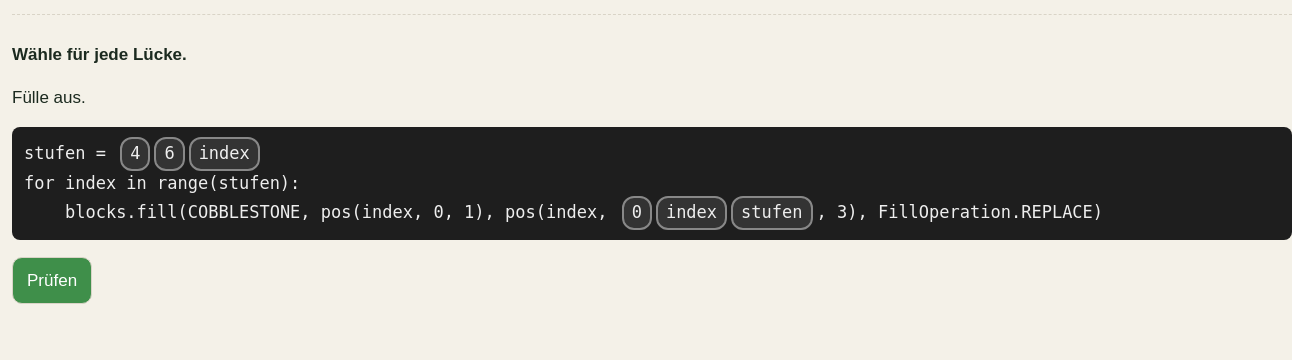
Scenario: Pruefen ohne Auswahl → fillWrong; richtige Chips → fillRight; ein falscher Chip → fillWrong
Step 1. Click the button with test id "fill-check" → (52, 280), box [12,256,92,304]
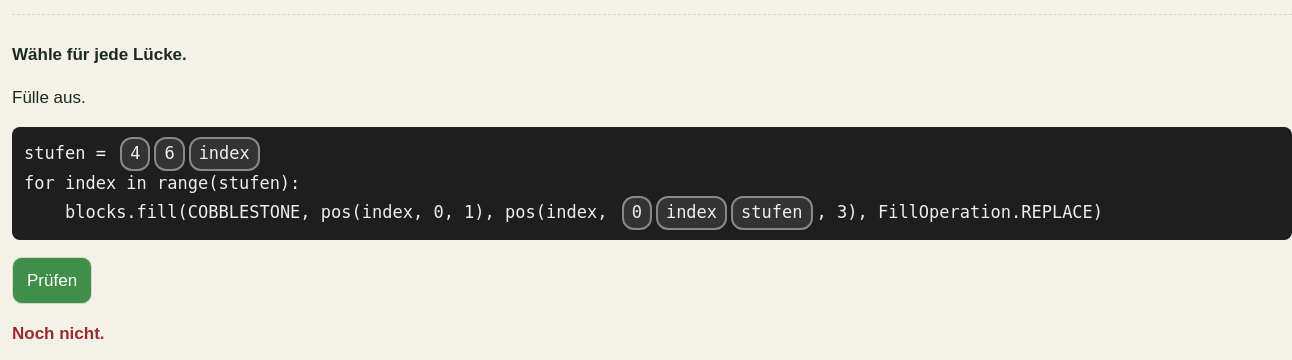
Now the message reads "Noch nicht.", box [12,324,105,343]
Step 2. Click the button with test id "fill-gap-0-option-1" → (170, 154), box [154,137,185,170]
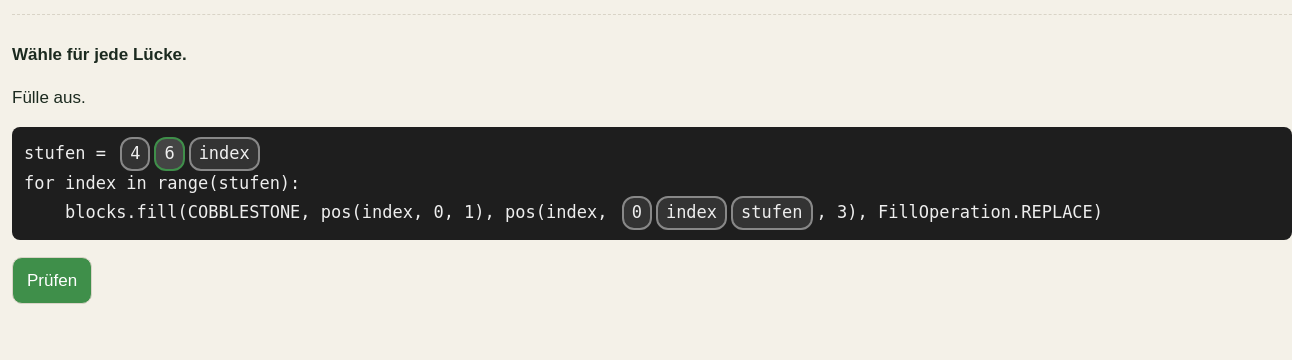
Step 3. Click the button with test id "fill-gap-1-option-1" → (692, 213), box [656,196,727,230]
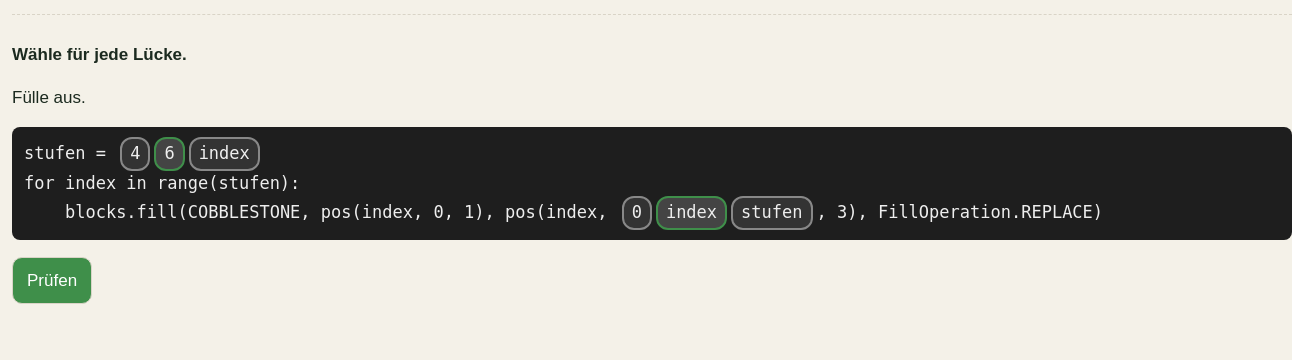
Step 4. Click the button with test id "fill-check" → (52, 280), box [12,256,92,304]
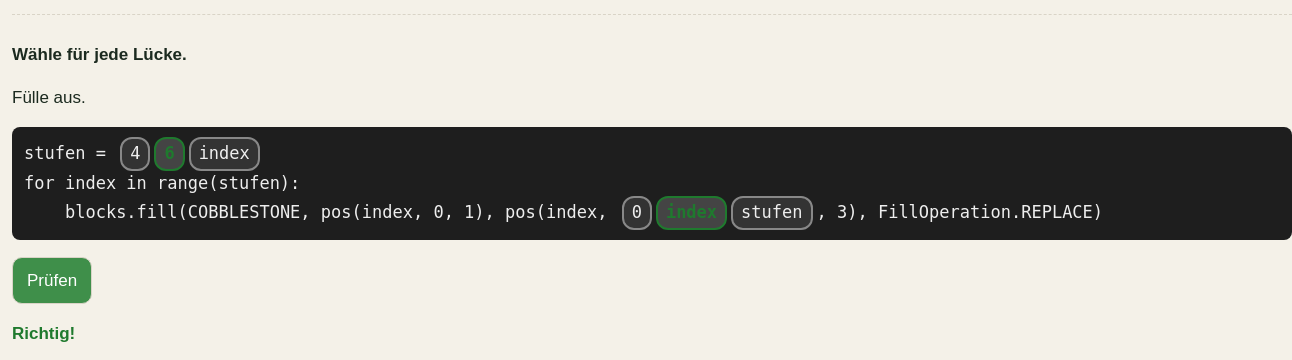
Now the message reads "Richtig!", box [12,324,75,343]
Step 5. Click the button with test id "fill-gap-1-option-2" → (772, 213), box [731,196,812,230]
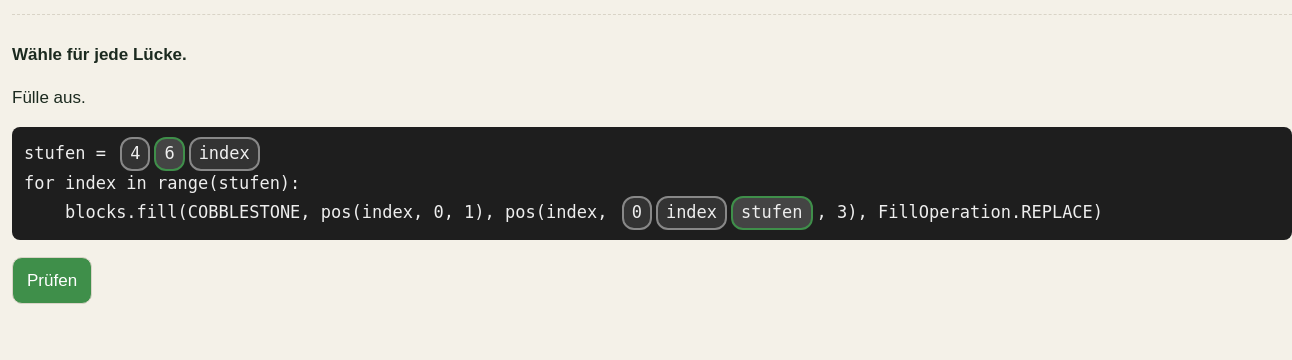
Step 6. Click the button with test id "fill-check" → (52, 280), box [12,256,92,304]
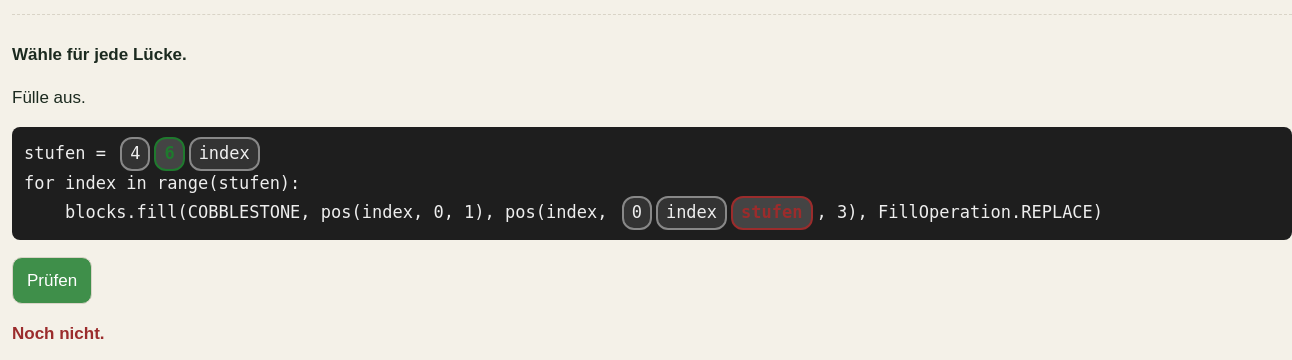
Now the message reads "Noch nicht.", box [12,324,105,343]
